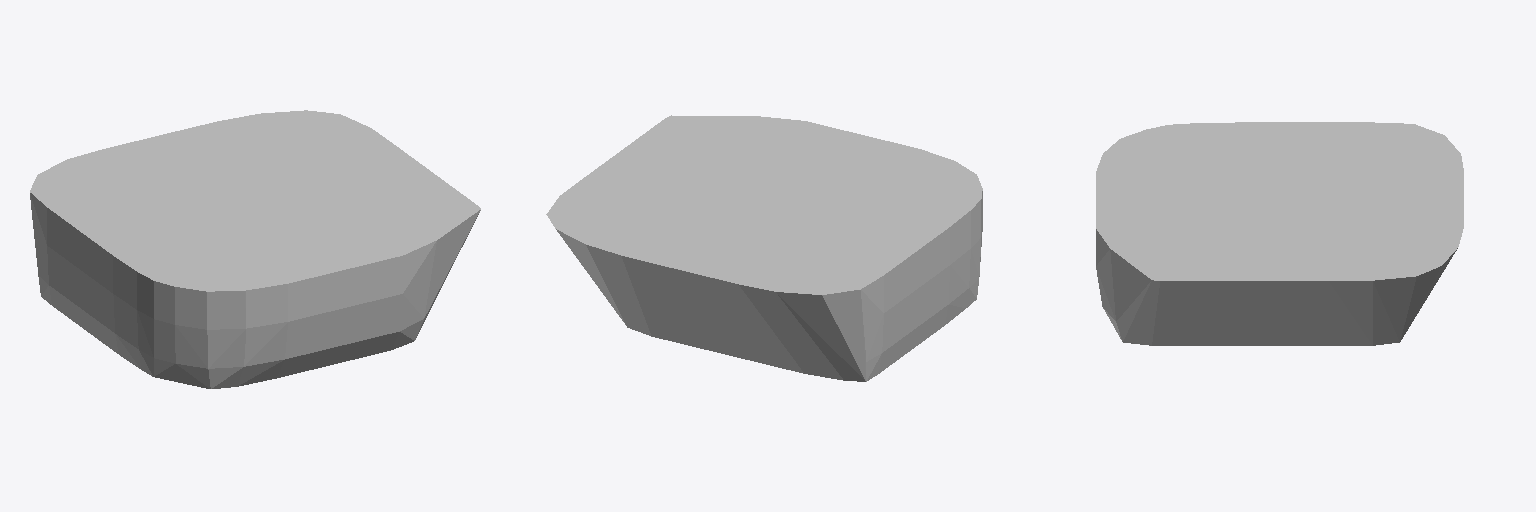
The model's file is Toaster_24_collision_27.obj.
3 renders of one model, left to right at view 1: azimuth 30°, elevation 25°; view 2: azimuth 150°, elevation 25°; view 3: azimuth 270°, elevation 25°, orthographic.
Bounding box in the file's own units: 0.0305 × 0.0098 × 0.03.